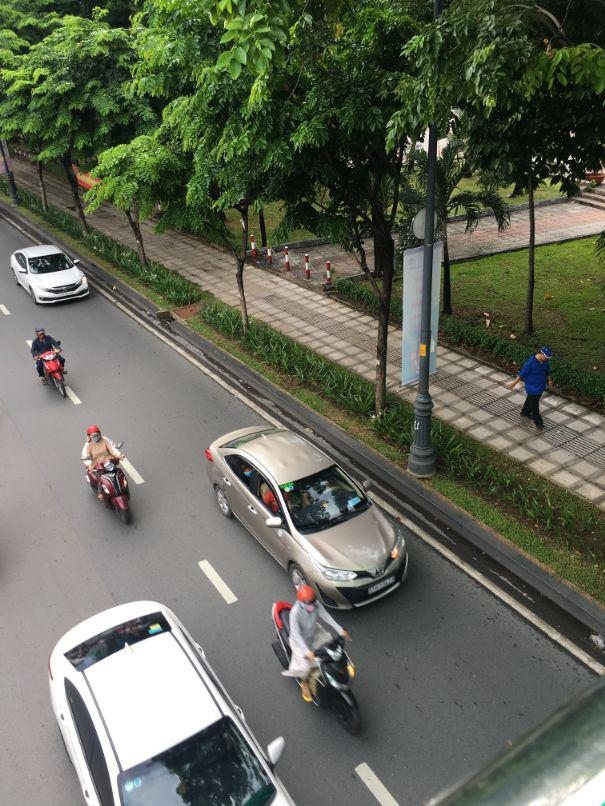car: (49, 598, 337, 806), (206, 424, 411, 612), (11, 245, 91, 309)
motorbike: (296, 636, 362, 738), (86, 457, 134, 526), (33, 346, 68, 398)
